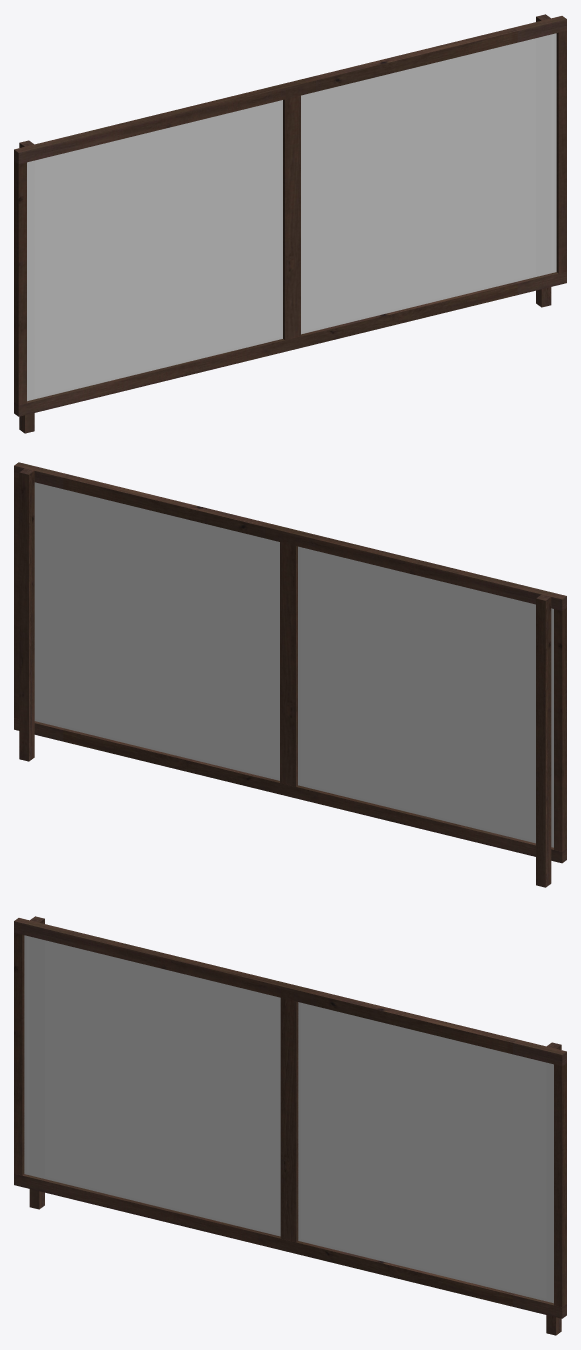
File: EAFpolycadesign_w1998-h920_darkpine.fbx
The picture shows the model from 3 angles, top to bottom: view 1: azimuth 30°, elevation 25°; view 2: azimuth 150°, elevation 25°; view 3: azimuth 330°, elevation 25°; orthographic projection.
Visible parts, largest first — view 1: EAFpolycadesign_w1998-h920_darkpine; view 2: EAFpolycadesign_w1998-h920_darkpine; view 3: EAFpolycadesign_w1998-h920_darkpine.
Boxes of the visible parts, bbox=[...] form: EAFpolycadesign_w1998-h920_darkpine: bbox=[14, 14, 566, 433]; EAFpolycadesign_w1998-h920_darkpine: bbox=[14, 462, 566, 887]; EAFpolycadesign_w1998-h920_darkpine: bbox=[14, 916, 566, 1335].
Size of the model in its own units: 200 by 100 by 6.5.
Materials: 3 (2 with a texture image).
